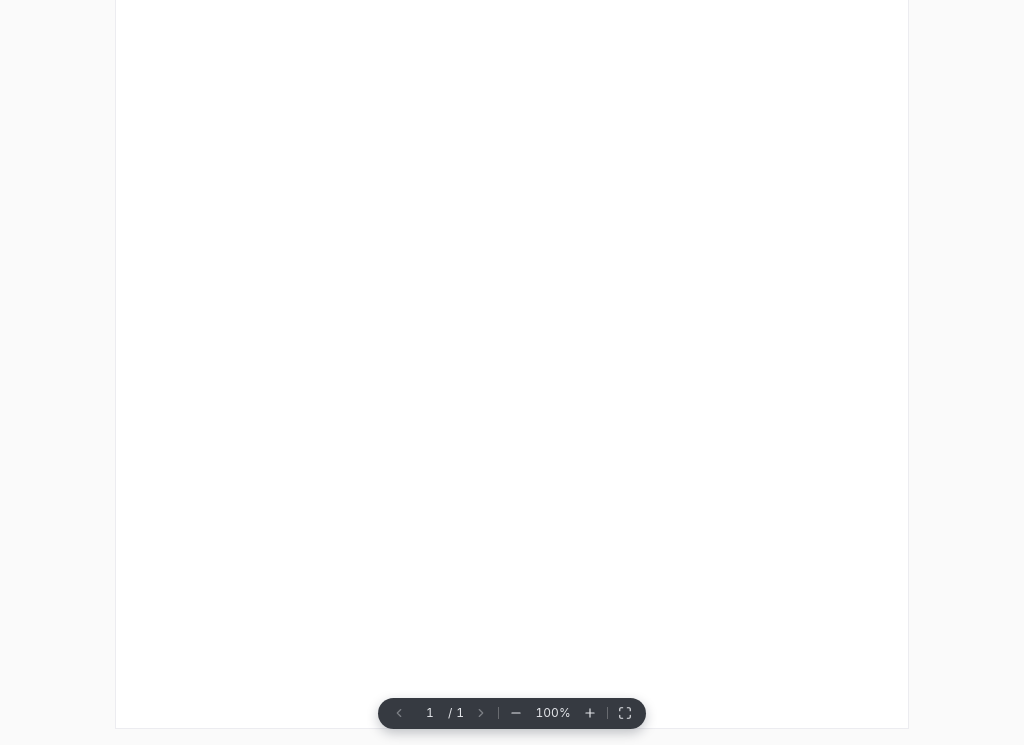
HwpxViewer › zoom-out 버튼 클릭 시 scale이 25% 감소한다
(page scrolled)
Expected: the field with test id "hwpx-page-input" holds "1", [416, 704, 444, 722]
Click the button with test id "hwpx-zoom-out" at (516, 713), box [509, 706, 523, 720]
(page scrolled)
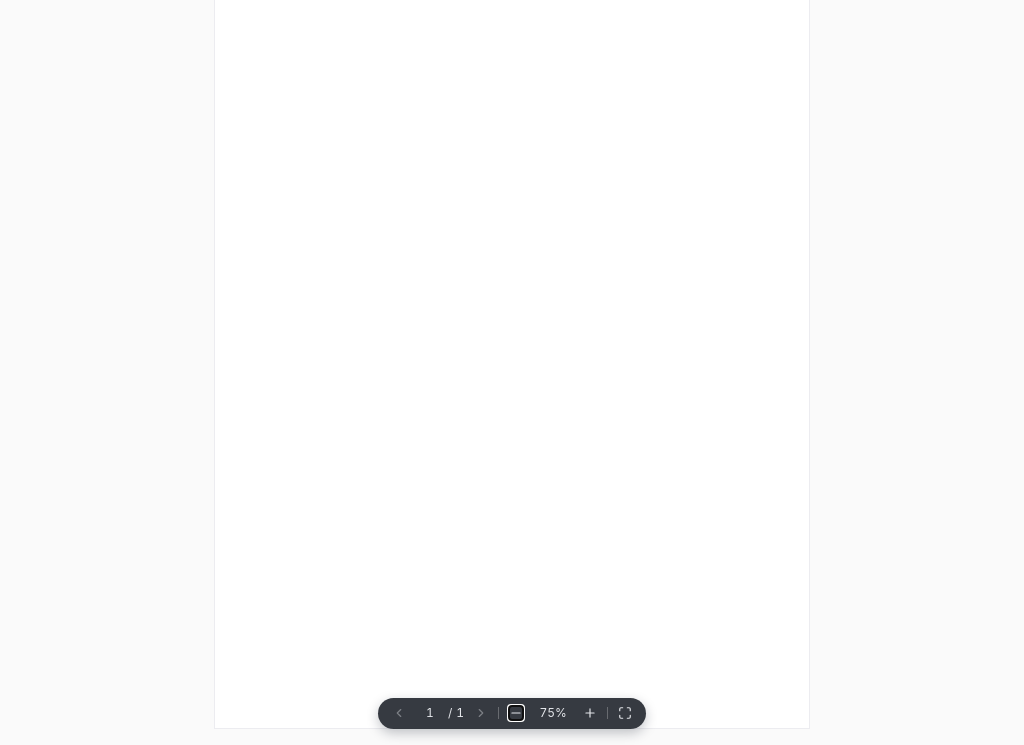
Expected: the text with test id "hwpx-scale" reads "75%", [539, 705, 567, 720]
